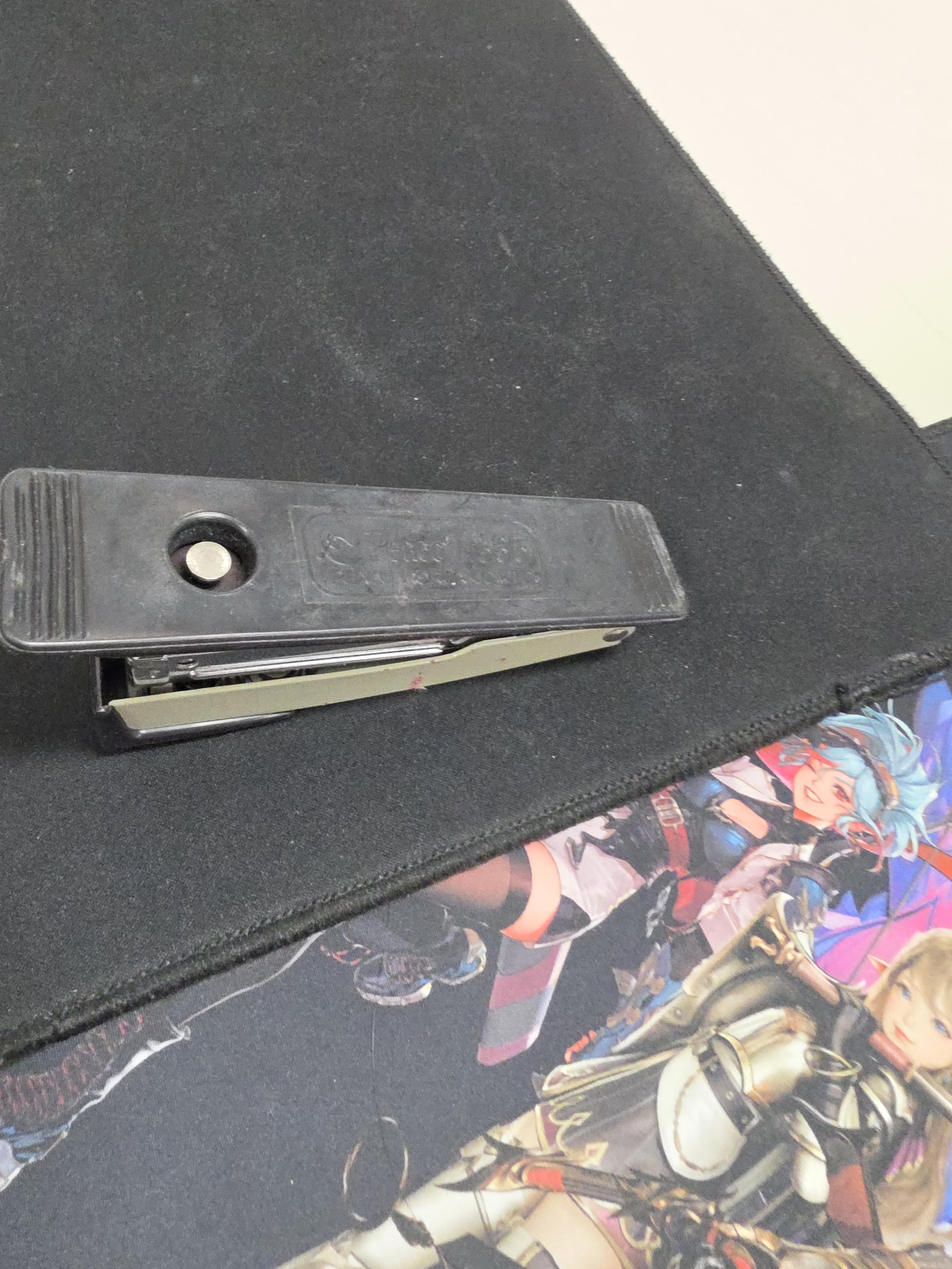stapler: (0, 467, 689, 750)
